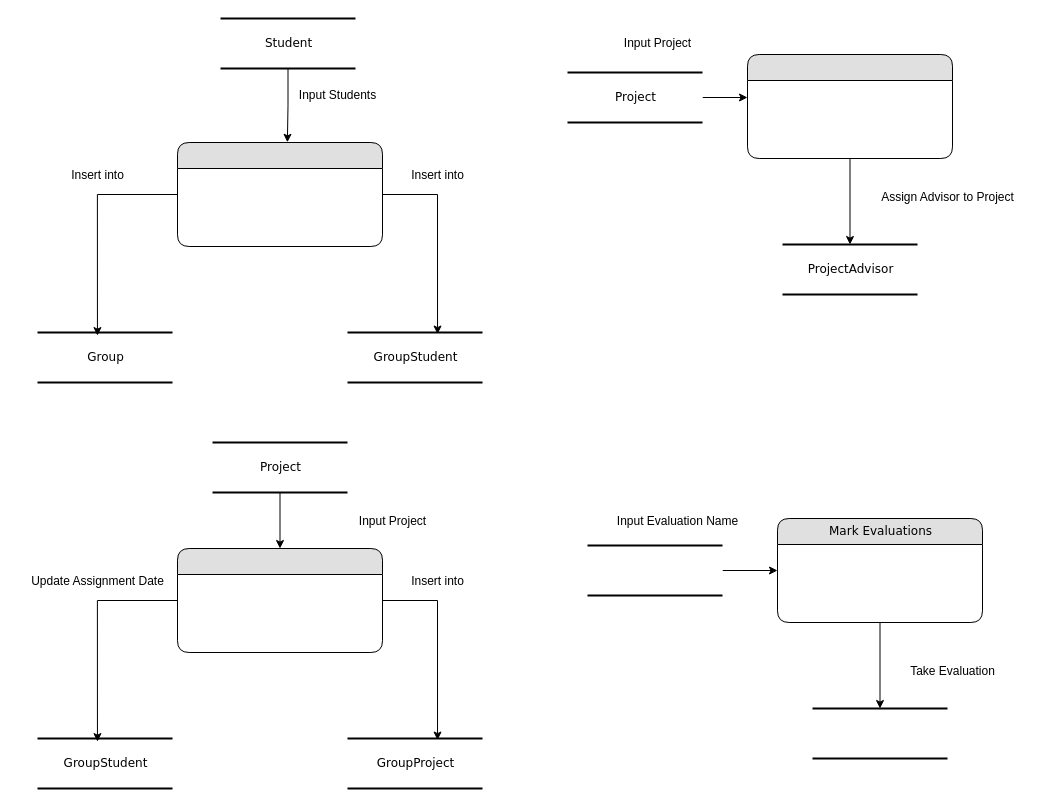
This 1044x806 diagram has some shape labels left out. The box of each missing label's shape, as (x1, y1, x2, y2) in pixels:
Assign Advisors: (746, 54, 952, 158)
Assign Project: (176, 548, 382, 652)
Evaluation: (586, 544, 723, 596)
Group Formation: (176, 142, 382, 246)
GroupEvaluation: (811, 707, 948, 759)
